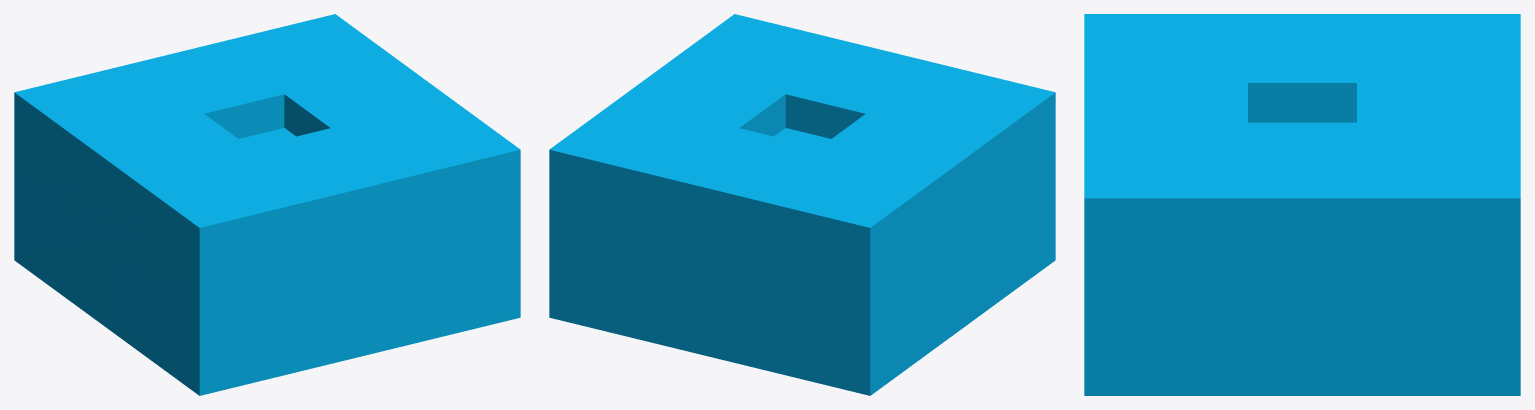
File: etiketli_secim_islemi.gltf
The picture shows the model from 3 angles, left to right: view 1: azimuth 30°, elevation 25°; view 2: azimuth 150°, elevation 25°; view 3: azimuth 270°, elevation 25°; orthographic projection. The views are drawn at different scales.
Parts seen in each view (by area): view 1: Gövde; view 2: Gövde; view 3: Gövde.
Part boxes in pixels (x1,y1,x2,y2): Gövde: (14, 14, 520, 395); Gövde: (549, 14, 1055, 395); Gövde: (1084, 14, 1520, 395).
Bounding box in the file's own units: 0.02 × 0.013 × 0.02.
